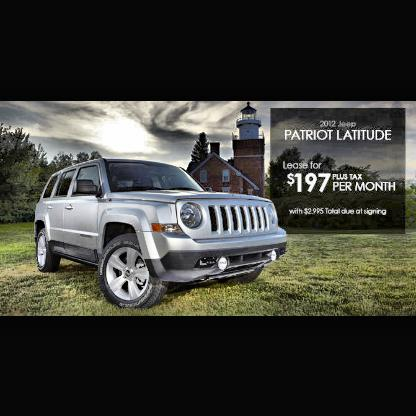Jeep Patriot SUV 2012: (34, 158, 292, 308)
